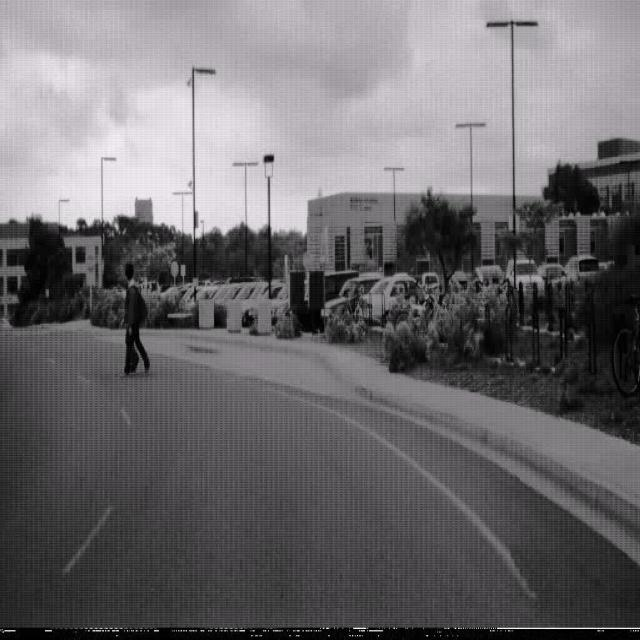stop: (84, 252, 95, 274), (302, 251, 312, 270)
